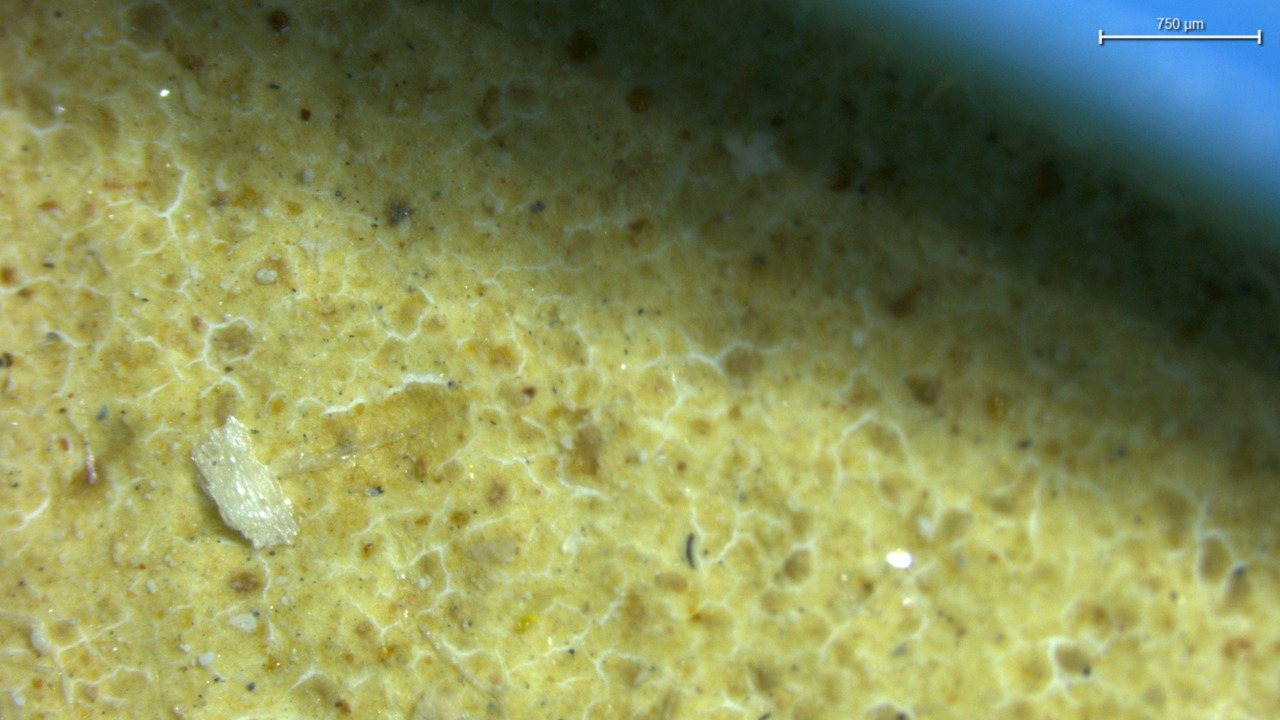microplastic_fragment: (192, 416, 299, 549)
